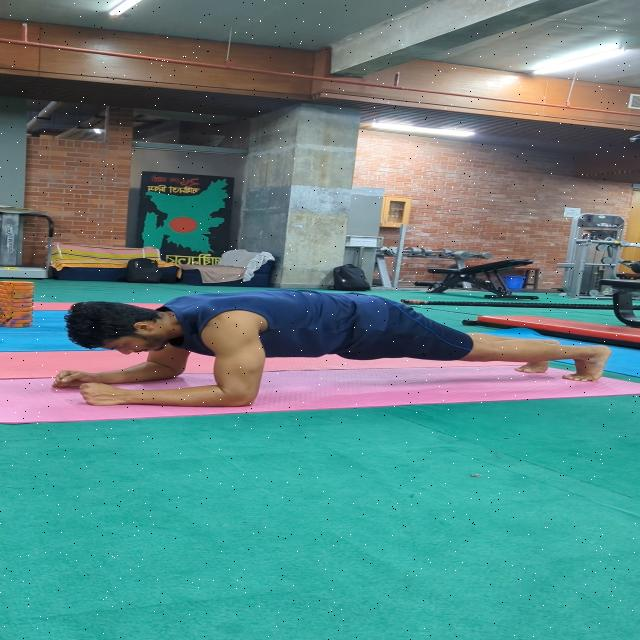Normal_Plunk: (20, 264, 618, 436)
